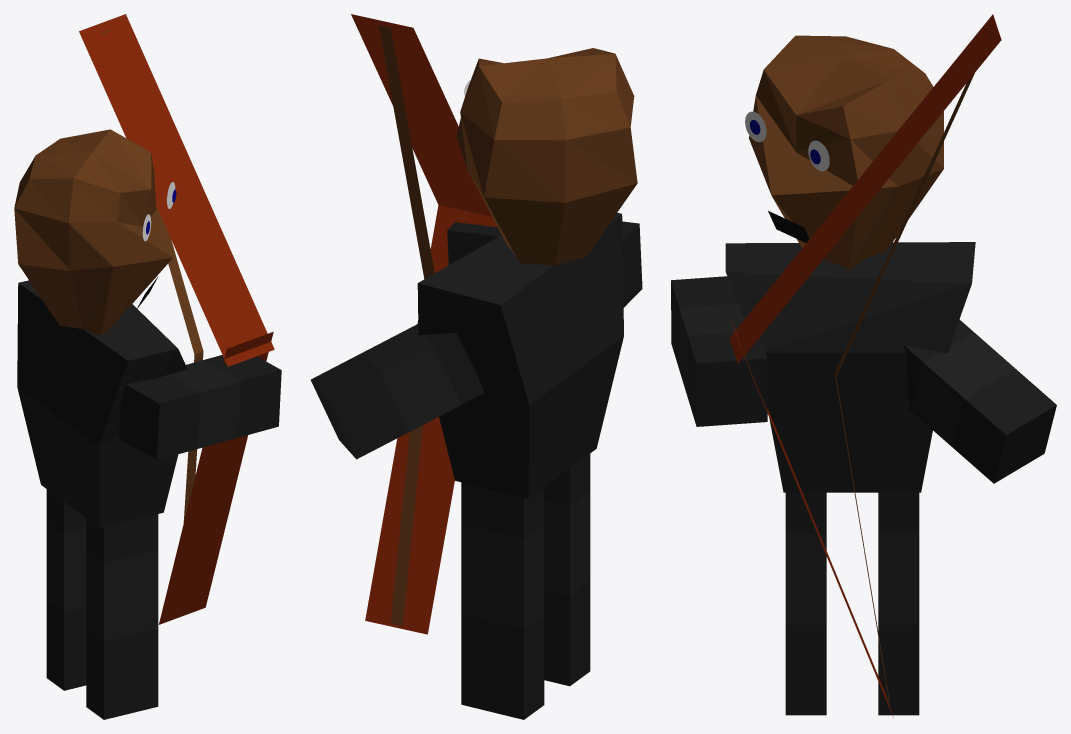
The model's file is heavyarcher3f.obj.
3 views of the same model, side by side, from view 1: azimuth 30°, elevation 25°; view 2: azimuth 150°, elevation 25°; view 3: azimuth 270°, elevation 25° (orthographic). The views are drawn at different scales.
Parts seen in each view (by area): view 1: Cube.001, Cube, Plane.002_Plane.003, Cube.004, Cube.003, Plane.001_Plane.002, Cube.005, Plane.003_Plane.004; view 2: Cube.001, Cube, Cube.005, Cube.002, Plane.001_Plane.002, Cube.004, Plane.002_Plane.003, Plane.003_Plane.004, Cube.003; view 3: Cube.001, Cube, Cube.002, Cube.003, Plane.002_Plane.003, Cube.005, Cube.004, Plane.003_Plane.004, Plane.001_Plane.002.
Boxes of the visible parts, left/top/right/bottom form: Cube.001: left=17, top=280, right=187, bottom=527; Cube: left=14, top=129, right=172, bottom=335; Plane.002_Plane.003: left=79, top=14, right=274, bottom=366; Cube.004: left=86, top=514, right=158, bottom=719; Cube.003: left=119, top=355, right=281, bottom=459; Plane.001_Plane.002: left=159, top=332, right=273, bottom=624; Cube.005: left=46, top=489, right=86, bottom=690; Plane.003_Plane.004: left=102, top=30, right=203, bottom=522; Cube.001: left=417, top=212, right=623, bottom=498; Cube: left=456, top=48, right=637, bottom=265; Cube.005: left=461, top=482, right=544, bottom=719; Cube.002: left=311, top=324, right=484, bottom=459; Plane.001_Plane.002: left=365, top=205, right=497, bottom=634; Cube.004: left=544, top=454, right=590, bottom=686; Plane.002_Plane.003: left=351, top=14, right=491, bottom=216; Plane.003_Plane.004: left=379, top=25, right=434, bottom=625; Cube.003: left=447, top=221, right=642, bottom=307; Cube.001: left=725, top=242, right=975, bottom=492; Cube: left=749, top=35, right=943, bottom=268; Cube.002: left=903, top=319, right=1056, bottom=483; Cube.003: left=671, top=276, right=767, bottom=426; Plane.002_Plane.003: left=729, top=14, right=1001, bottom=363; Cube.005: left=878, top=492, right=919, bottom=715; Cube.004: left=785, top=492, right=826, bottom=715; Plane.003_Plane.004: left=835, top=33, right=990, bottom=704; Plane.001_Plane.002: left=730, top=319, right=893, bottom=717.
Bounding box in the file's own units: 2.42 × 6.6 × 3.26.
